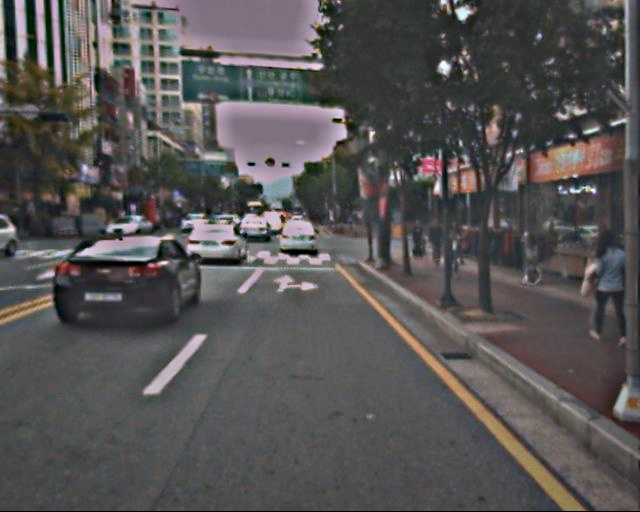person: (580, 227, 629, 340), (442, 219, 467, 280), (427, 218, 447, 266), (411, 220, 427, 263)
